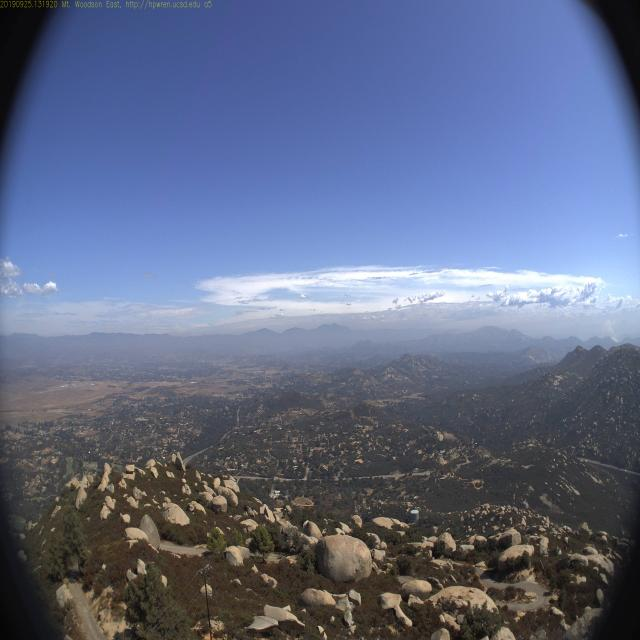smoke: (598, 313, 622, 345)
